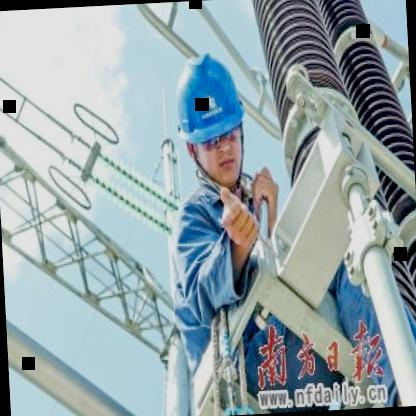helmet: (167, 40, 255, 201)
